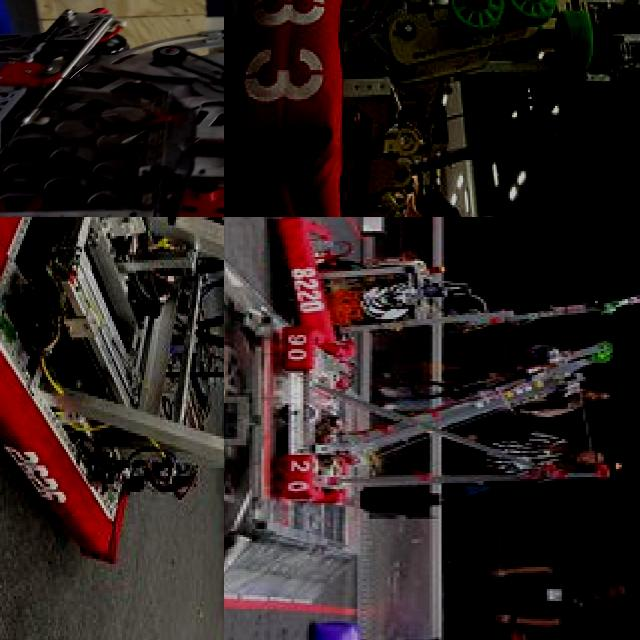FRC-Robots: (224, 0, 640, 217), (0, 217, 224, 602), (263, 322, 631, 512), (0, 0, 224, 217), (278, 217, 640, 341)
